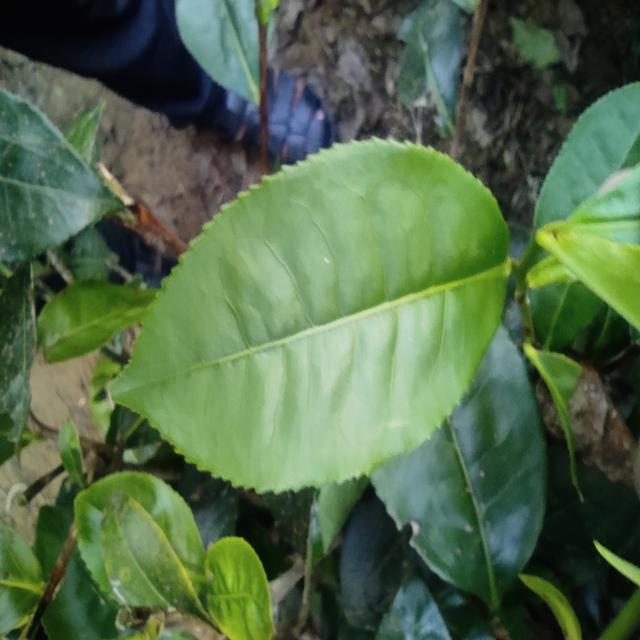Category C(4-7 days): (86, 98, 523, 518)
